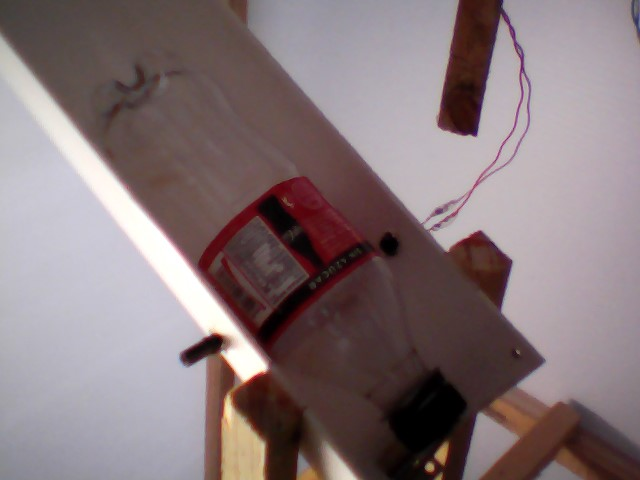plastico: (78, 43, 475, 464)
